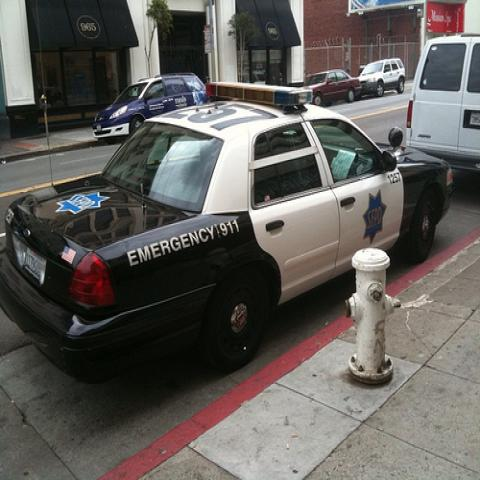car: (0, 80, 455, 381), (404, 31, 479, 175), (94, 73, 207, 146), (301, 70, 362, 104), (355, 57, 406, 97)
